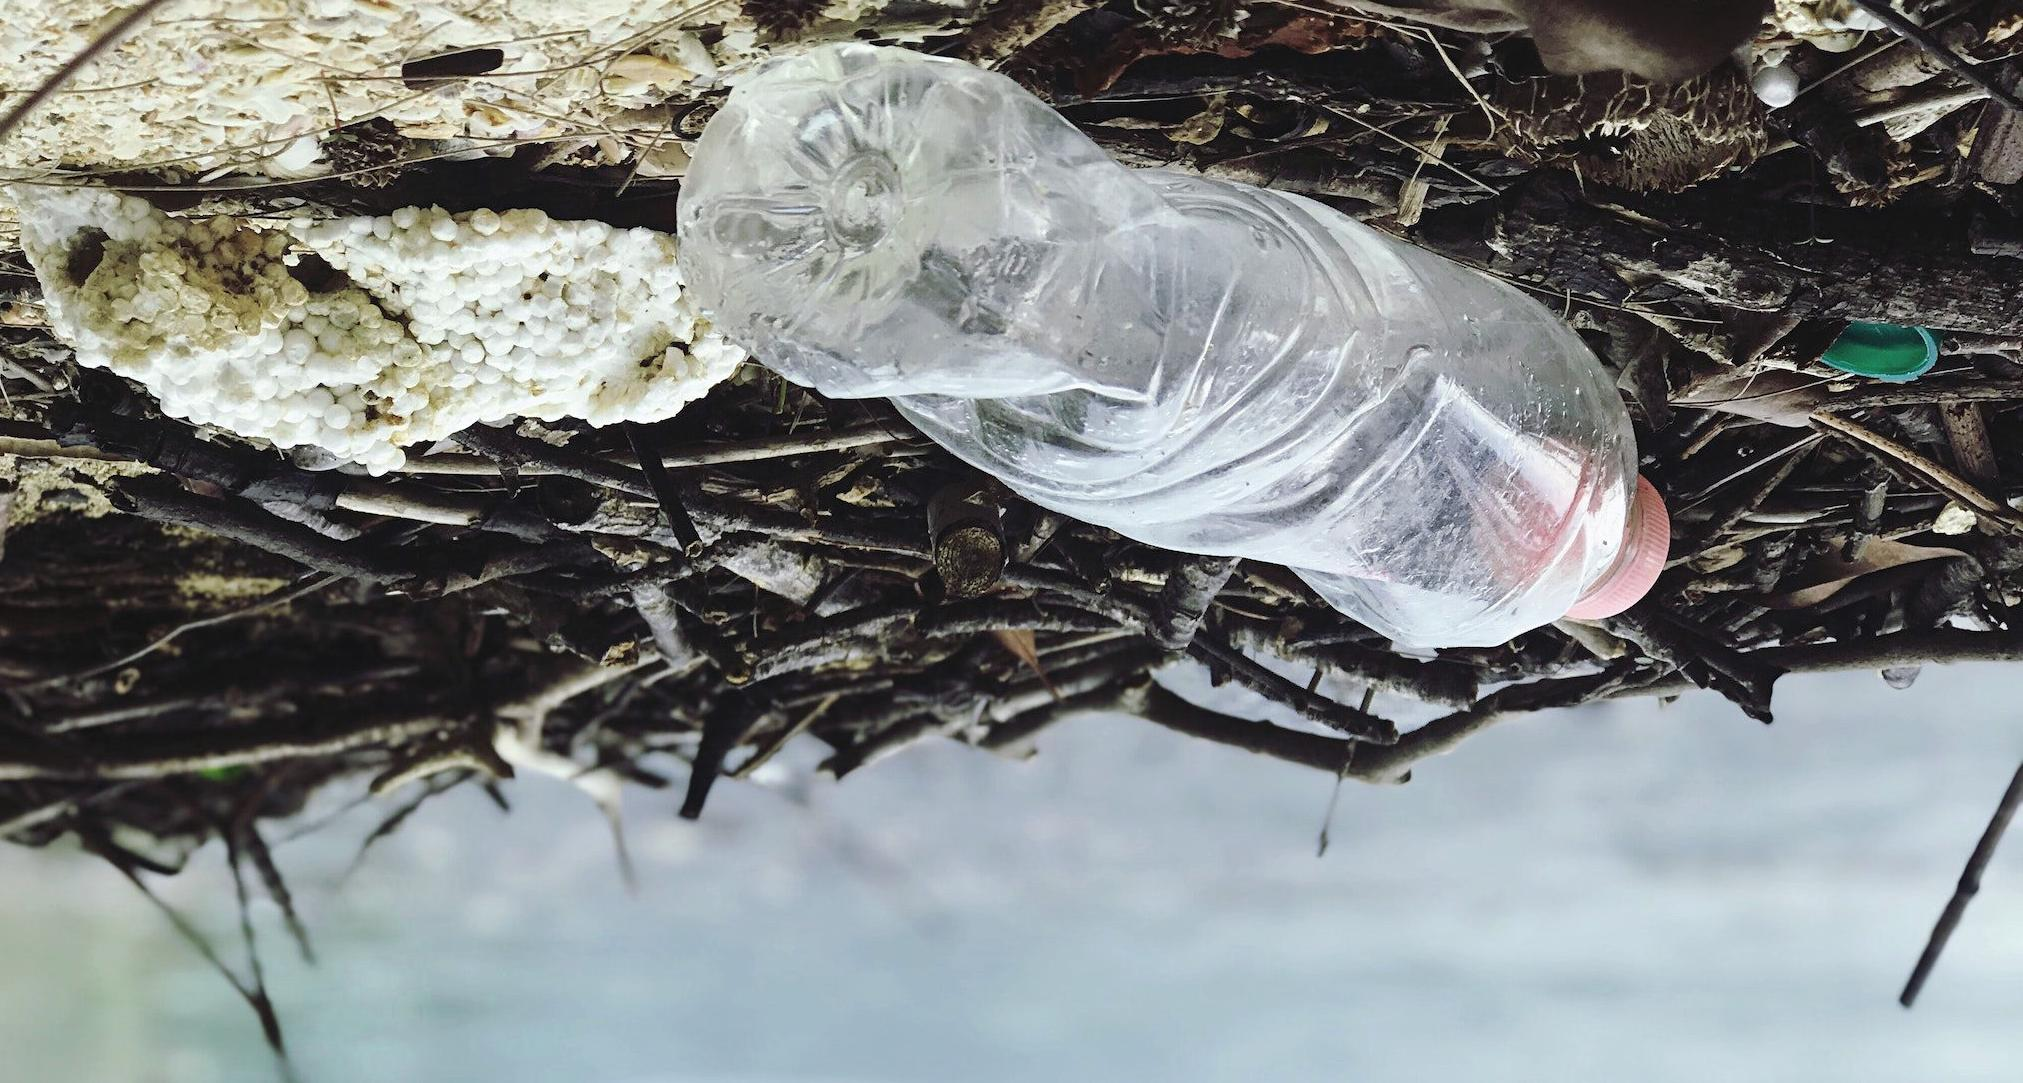Plastic: (677, 43, 1671, 653)
